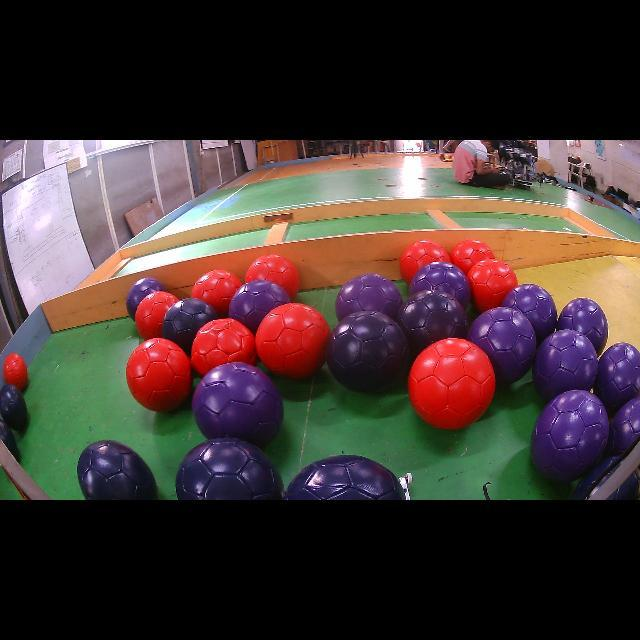B: (175, 438, 285, 500), (326, 310, 409, 392), (285, 455, 405, 500), (78, 440, 158, 500), (396, 290, 468, 355), (162, 298, 218, 355), (0, 384, 28, 430)
P: (192, 362, 284, 446), (530, 390, 609, 482), (466, 308, 536, 385), (532, 330, 598, 401), (229, 280, 291, 335), (502, 284, 558, 344), (594, 342, 640, 415), (335, 274, 402, 320), (556, 298, 609, 356), (410, 261, 471, 309), (605, 398, 640, 456), (126, 278, 166, 320)
R: (408, 339, 495, 429), (255, 302, 330, 379), (126, 338, 192, 411), (191, 319, 256, 376), (468, 259, 518, 312), (245, 254, 300, 300), (191, 270, 241, 316), (400, 240, 451, 284), (135, 291, 178, 340), (450, 240, 495, 274), (4, 352, 28, 390)
